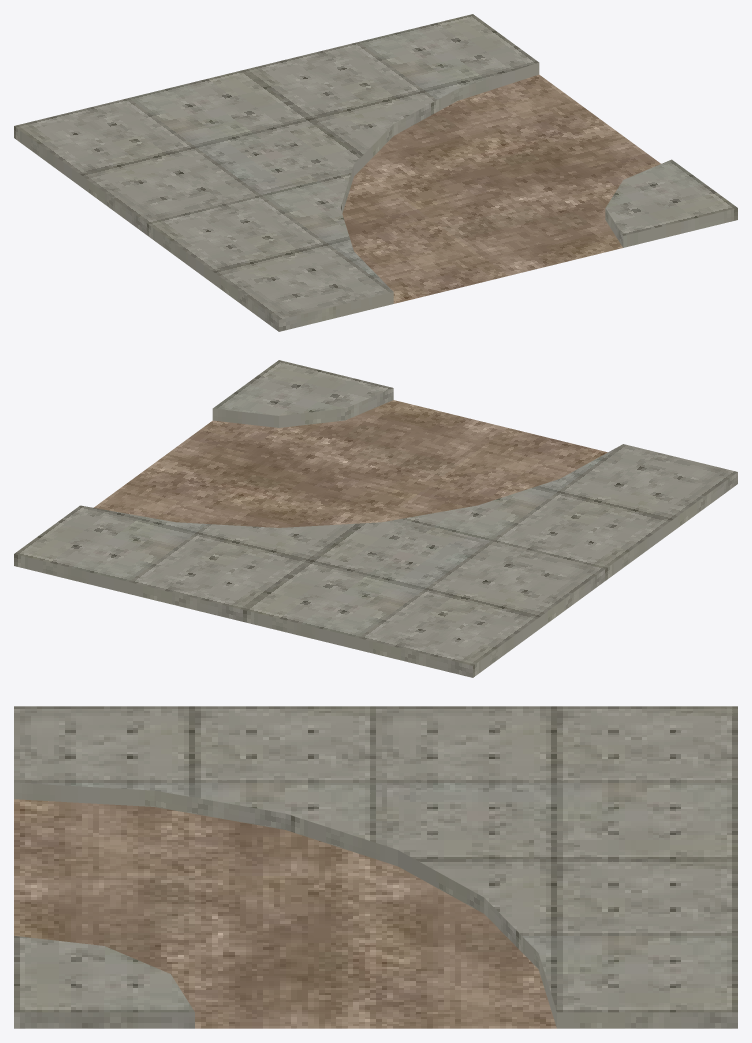
Rendered from kenney-retro-urban-road-dirt-corner.glb.
The picture shows the model from 3 angles, top to bottom: view 1: azimuth 30°, elevation 25°; view 2: azimuth 150°, elevation 25°; view 3: azimuth 270°, elevation 25°; orthographic projection. The views are drawn at different scales.
Parts seen in each view (by area): view 1: road-dirt-corner; view 2: road-dirt-corner; view 3: road-dirt-corner.
Boxes of the visible parts, <box> form: road-dirt-corner: <box>14,14,737,331</box>; road-dirt-corner: <box>14,360,737,677</box>; road-dirt-corner: <box>14,706,737,1028</box>.
Bounding box in the file's own units: 2 × 0.0501 × 2.
3 materials, 3 textured.
